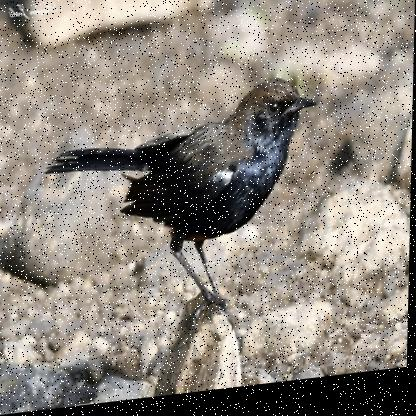Burung: (40, 81, 318, 353)
